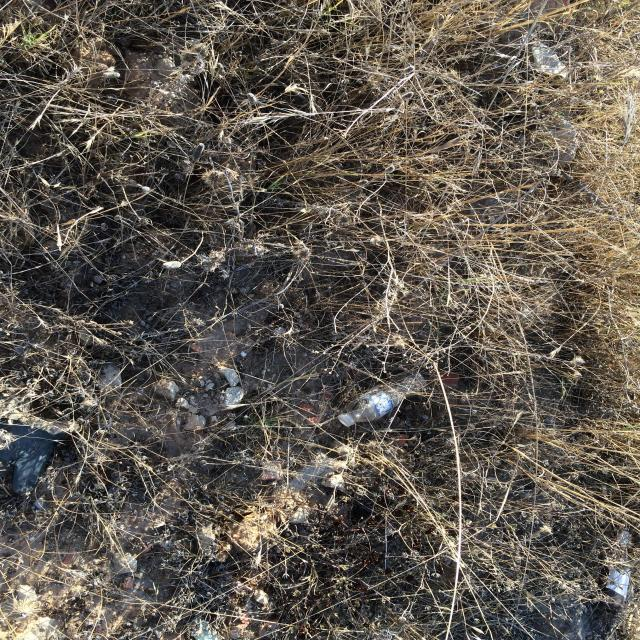bottle: (338, 372, 441, 437)
